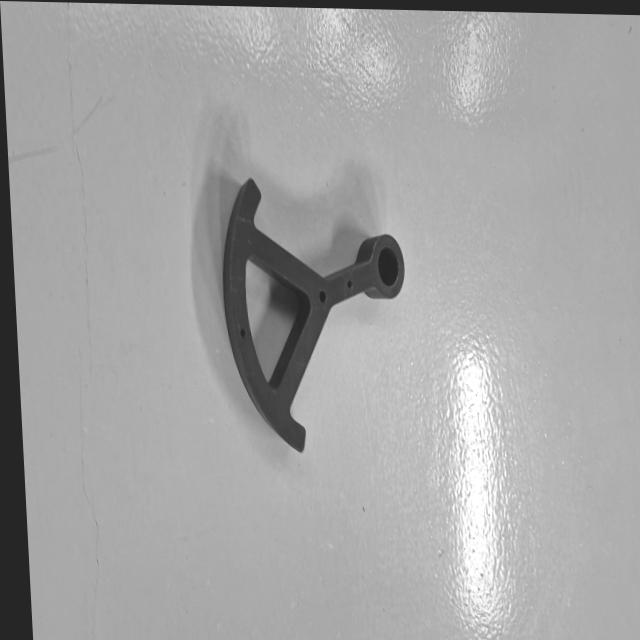haptic: (216, 174, 415, 457)
